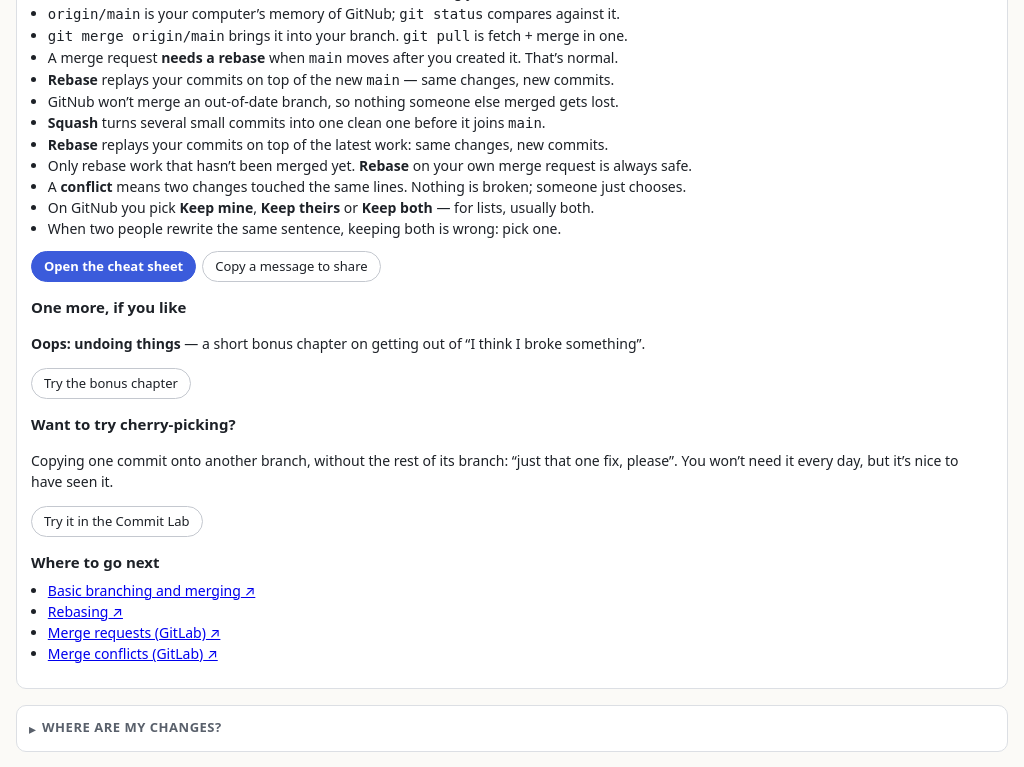
Test: the end of Keeping in sync › offers the bonus chapter, which starts when chosen
(page scrolled)
Click the button "Try the bonus chapter": click(111, 383) [31,368,191,399]
(page scrolled)
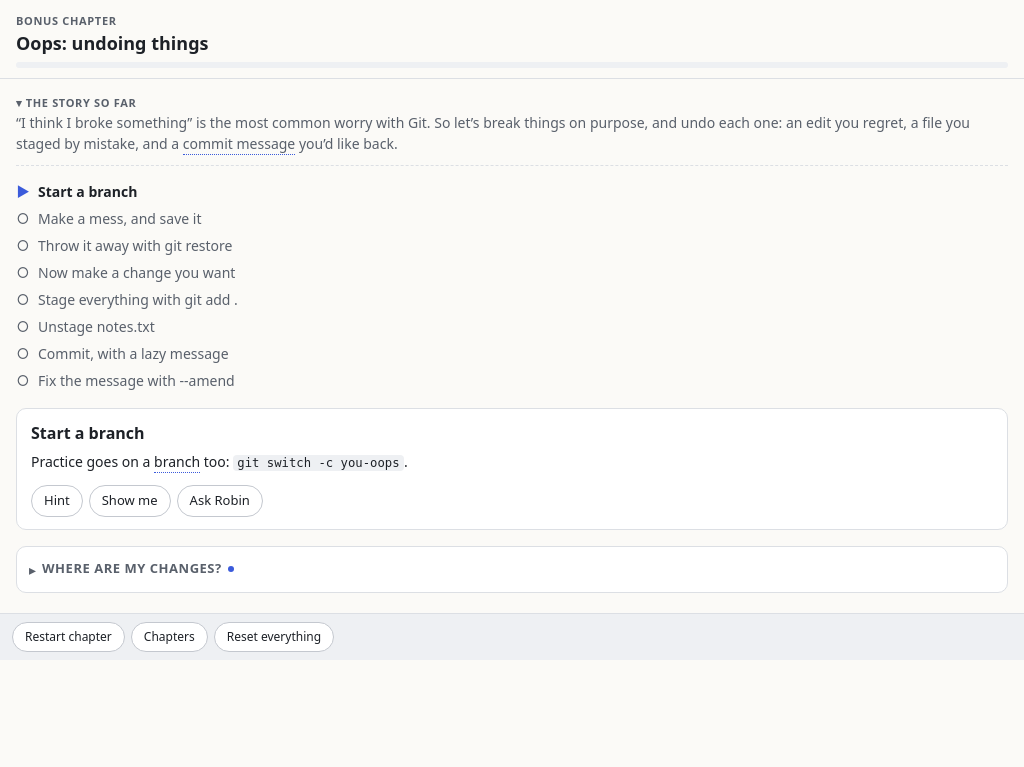
Check: the text "Bonus chapter" is shown, box [16,13,117,28]
Check: the heading "Oops: undoing things" is shown, box [16,30,208,54]
